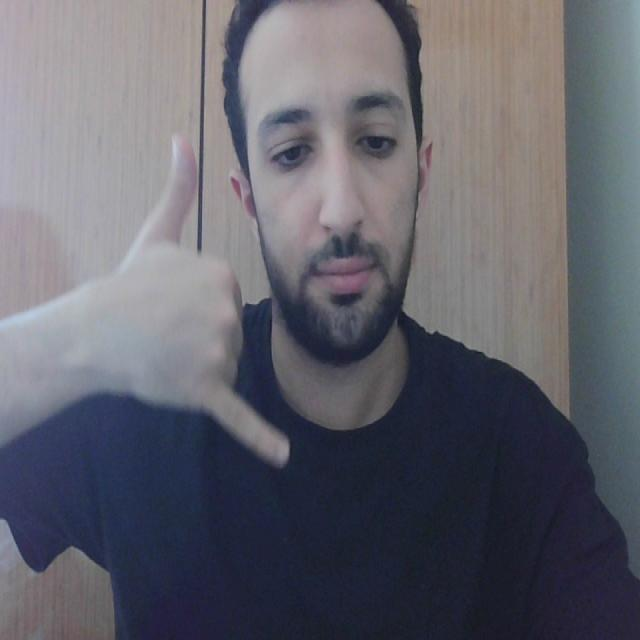Telefon: (129, 93, 306, 464)
